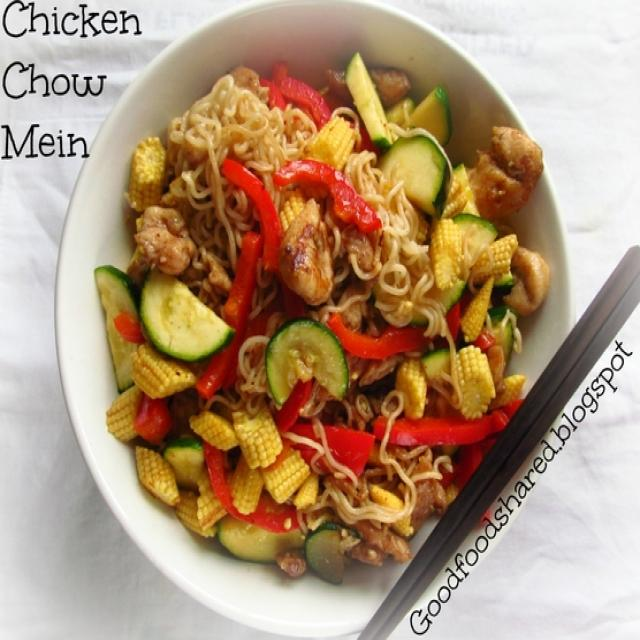面条主食: (90, 37, 551, 586)
